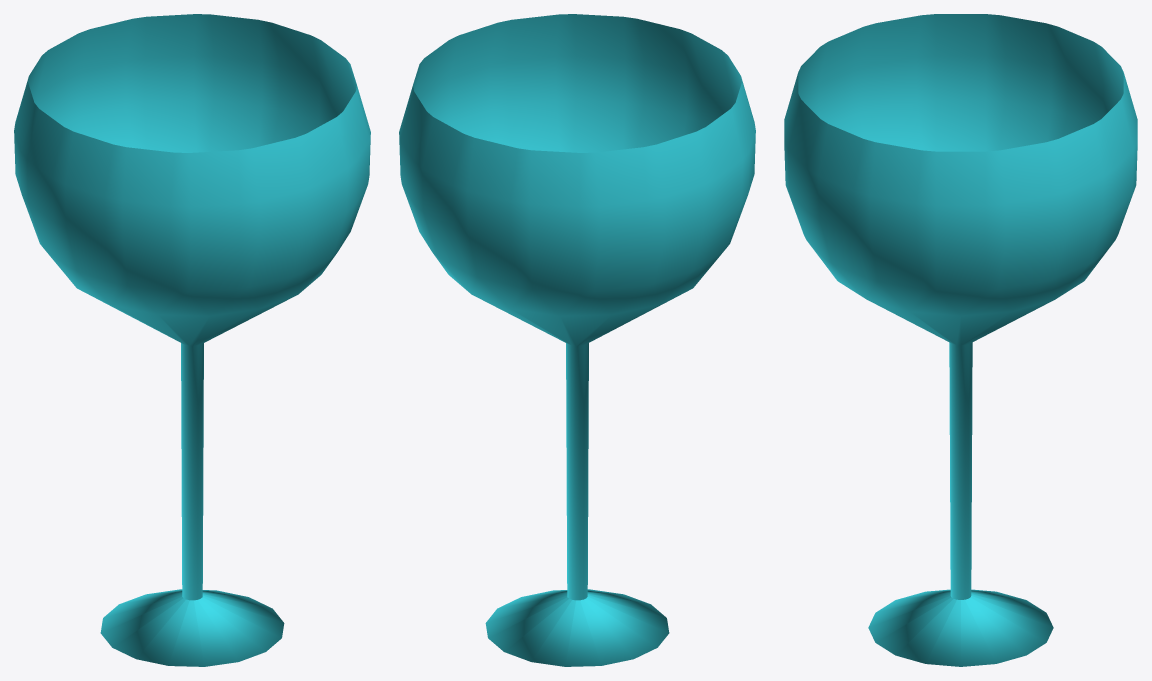
The model's file is taca.gltf.
3 views of the same model, side by side, from view 1: azimuth 30°, elevation 25°; view 2: azimuth 150°, elevation 25°; view 3: azimuth 270°, elevation 25° (orthographic).
Parts seen in each view (by area): view 1: Plane; view 2: Plane; view 3: Plane.
Boxes of the visible parts, bbox=[...] form: Plane: bbox=[14, 14, 370, 666]; Plane: bbox=[399, 14, 755, 666]; Plane: bbox=[784, 14, 1137, 666].
Bounding box in the file's own units: 1.16 × 1.96 × 1.16.
